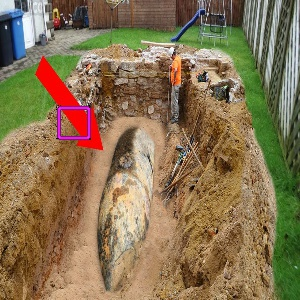square: (55, 105, 92, 140)
